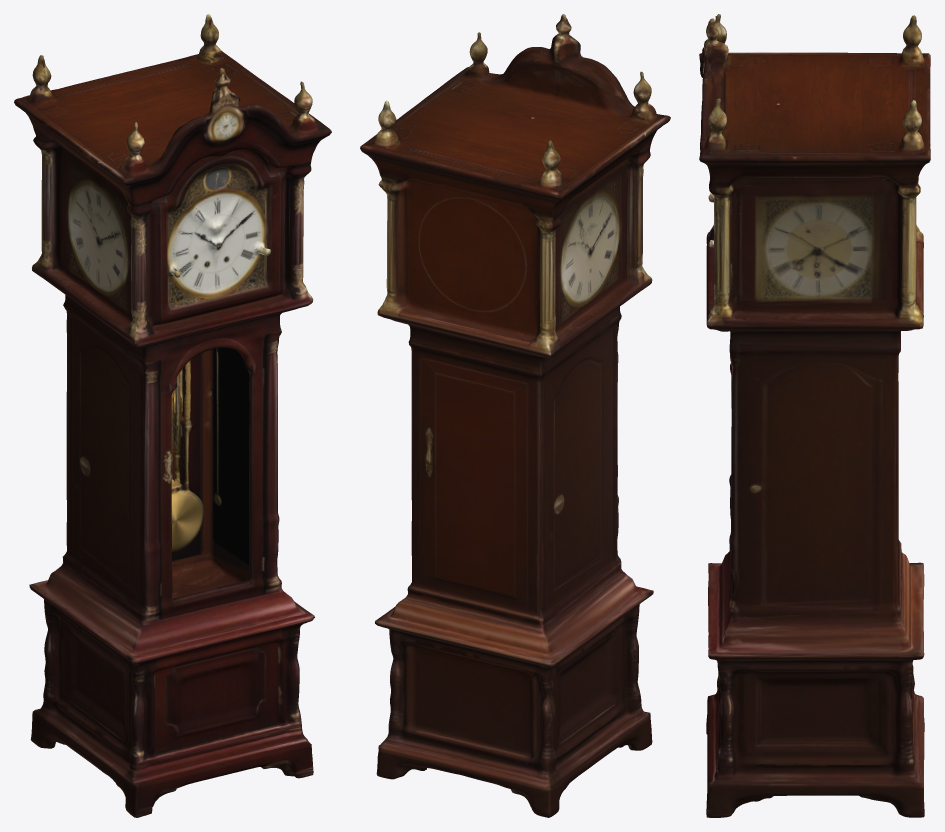
The model's file is i_need_a_grandfather__1011191954_refine.fbx.
3 views of the same model, side by side, from view 1: azimuth 30°, elevation 25°; view 2: azimuth 150°, elevation 25°; view 3: azimuth 270°, elevation 25° (orthographic). The views are drawn at different scales.
Visible parts, largest first — view 1: Mesh_0; view 2: Mesh_0; view 3: Mesh_0.
Boxes of the visible parts, box(x1,y1,x2,y2) form: Mesh_0: box(14, 14, 331, 817); Mesh_0: box(360, 14, 670, 817); Mesh_0: box(699, 14, 930, 817).
Bounding box in the file's own units: 60.05 × 200 × 55.69.
Materials: 1 (1 with a texture image).
